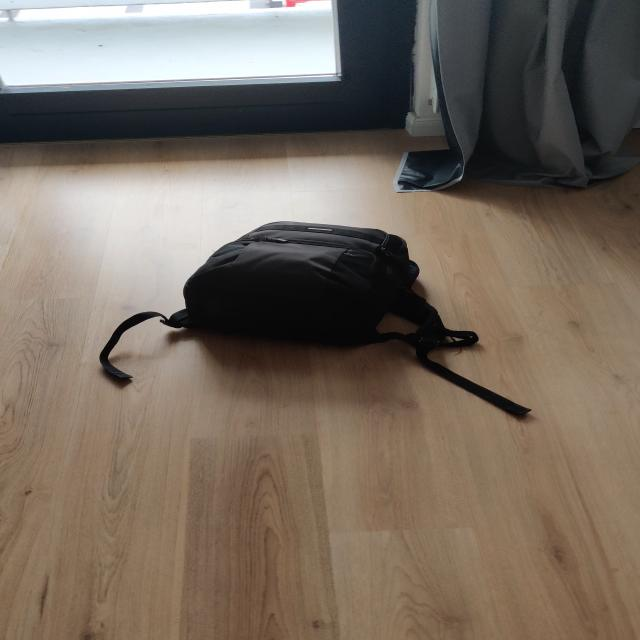backpack: (168, 218, 447, 351)
